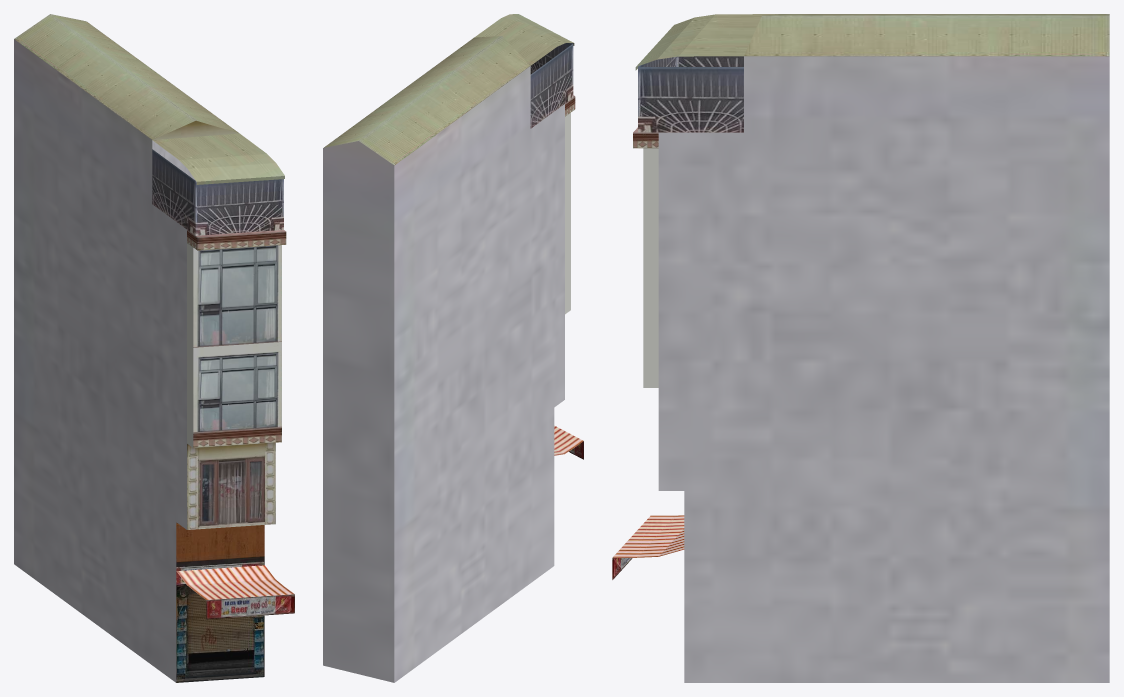
3 views of the same model, side by side, from view 1: azimuth 30°, elevation 25°; view 2: azimuth 150°, elevation 25°; view 3: azimuth 270°, elevation 25° (orthographic). The views are drawn at different scales.
Visible parts, largest first — view 1: HN1041___Beer_Pho_Co; view 2: HN1041___Beer_Pho_Co; view 3: HN1041___Beer_Pho_Co.
Part boxes in pixels (box(x1,y1,x2,y2)): HN1041___Beer_Pho_Co: box(14, 14, 294, 682); HN1041___Beer_Pho_Co: box(323, 14, 583, 682); HN1041___Beer_Pho_Co: box(612, 14, 1109, 682).
Size of the model in its own units: 2.25 by 16.07 by 11.21.
Materials: 1 (1 with a texture image).
